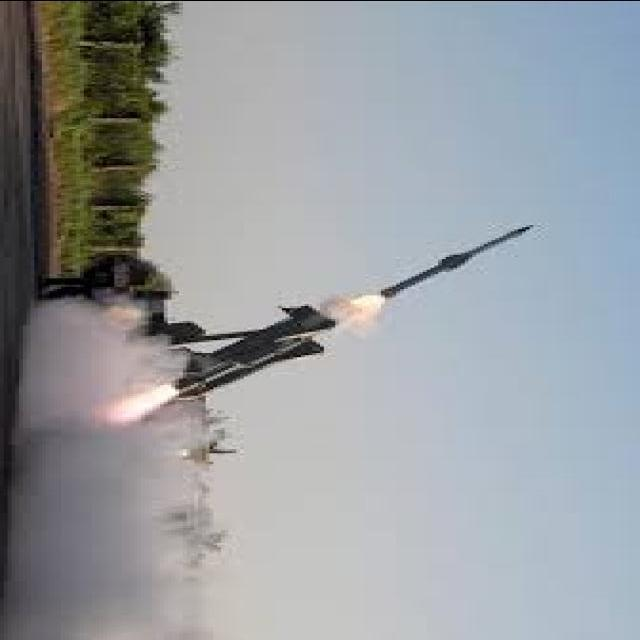missile: (360, 217, 543, 312)
